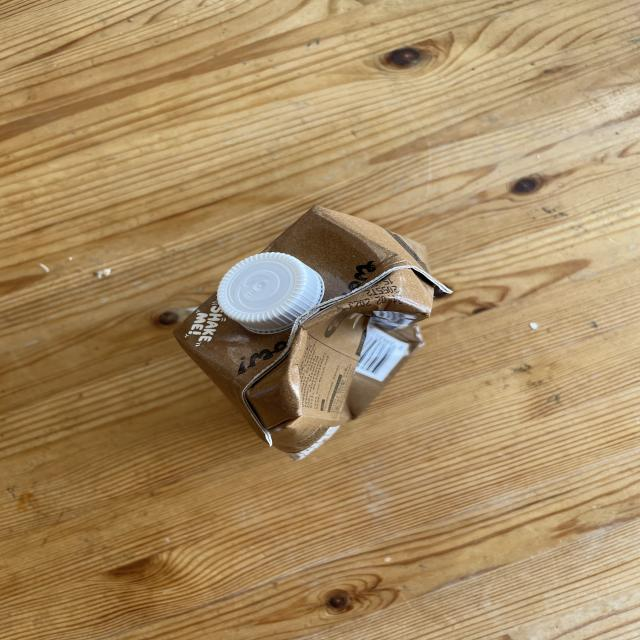non_white_jug: (180, 206, 444, 459)
